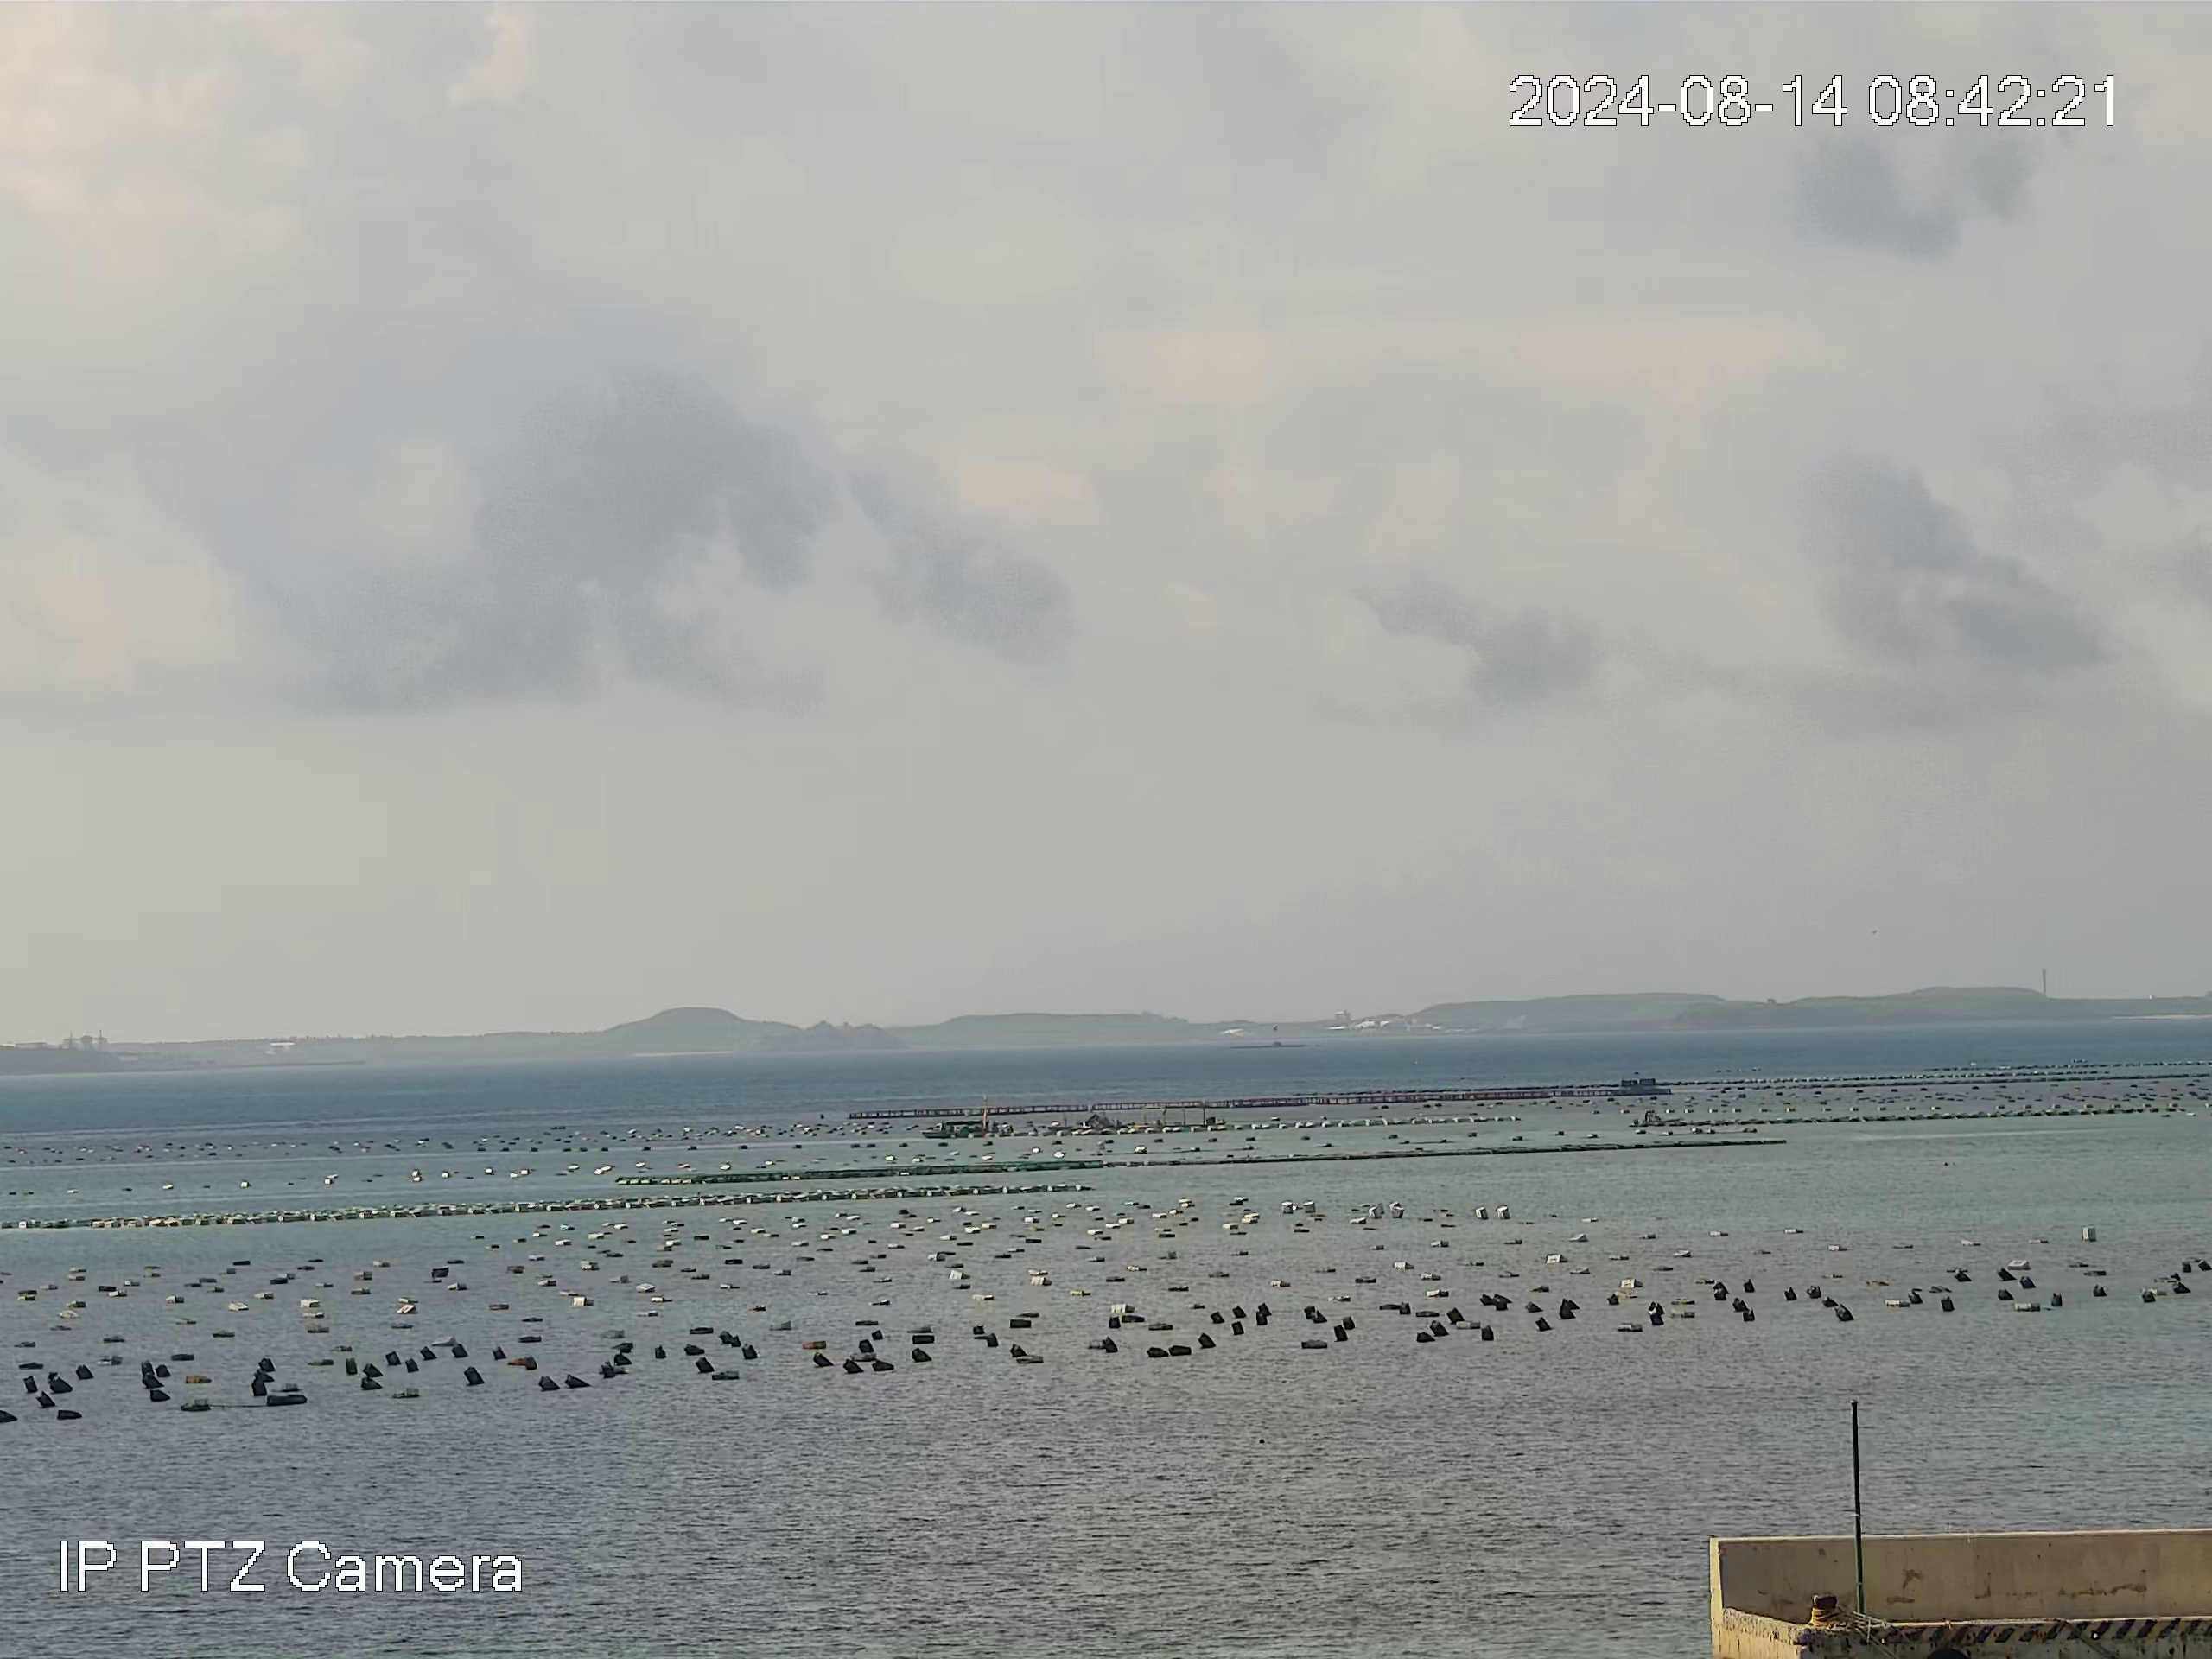boat: (923, 1121, 989, 1140), (1630, 1108, 1667, 1127)
